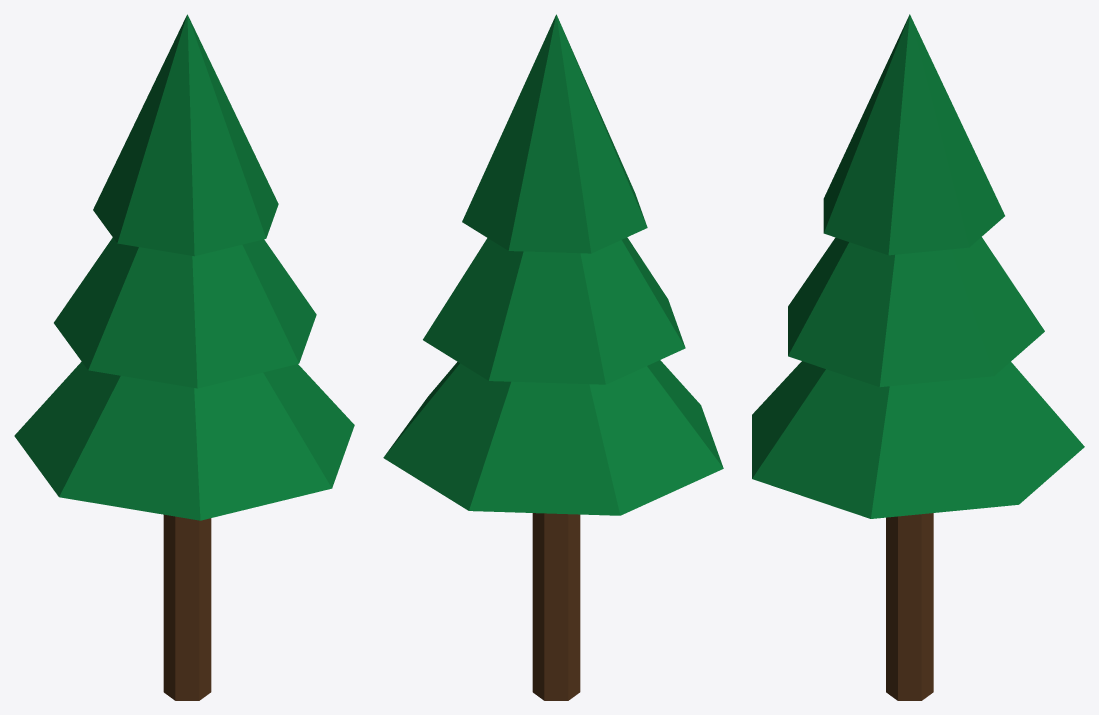
File: Prop_OR_LedgerTree_20.glb
The picture shows the model from 3 angles, left to right: view 1: azimuth 30°, elevation 25°; view 2: azimuth 150°, elevation 25°; view 3: azimuth 270°, elevation 25°; orthographic projection.
Parts seen in each view (by area): view 1: Prop_OR_LedgerTree_20; view 2: Prop_OR_LedgerTree_20; view 3: Prop_OR_LedgerTree_20.
Boxes of the visible parts, box(x1,y1,x2,y2) form: Prop_OR_LedgerTree_20: box(14, 14, 354, 700); Prop_OR_LedgerTree_20: box(383, 14, 723, 700); Prop_OR_LedgerTree_20: box(752, 14, 1084, 700).
Bounding box in the file's own units: 2.14 × 4.7 × 2.09.
